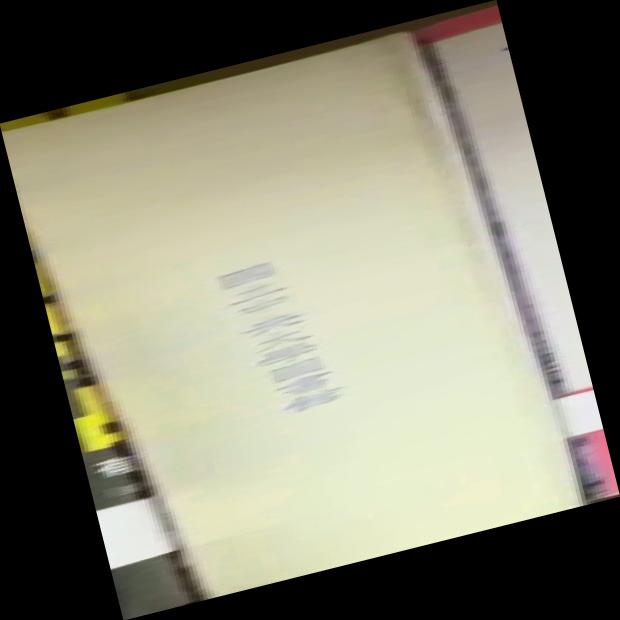backward: (1, 1, 617, 620)
